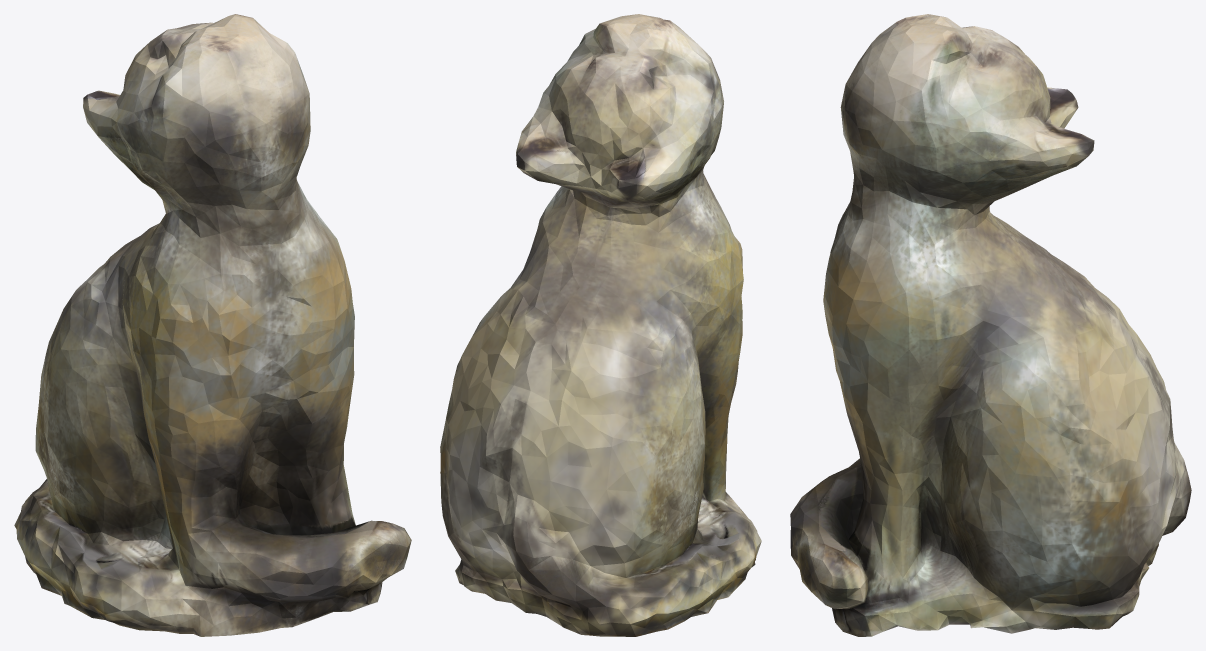
Rendered from Serene_Stone_Cat.fbx.
3 views of the same model, side by side, from view 1: azimuth 30°, elevation 25°; view 2: azimuth 150°, elevation 25°; view 3: azimuth 270°, elevation 25° (orthographic). The views are drawn at different scales.
Parts seen in each view (by area): view 1: temp; view 2: temp; view 3: temp.
Boxes of the visible parts, x1,y1,x2,y2 form: temp: (14,14,411,636); temp: (440,14,761,636); temp: (790,14,1191,636).
Bounding box in the file's own units: 100 × 200 × 130.
Materials: 1 (1 with a texture image).
